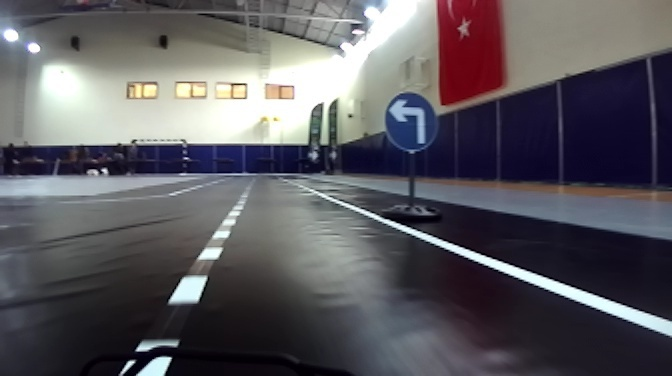sola_donus: (379, 91, 438, 150)
